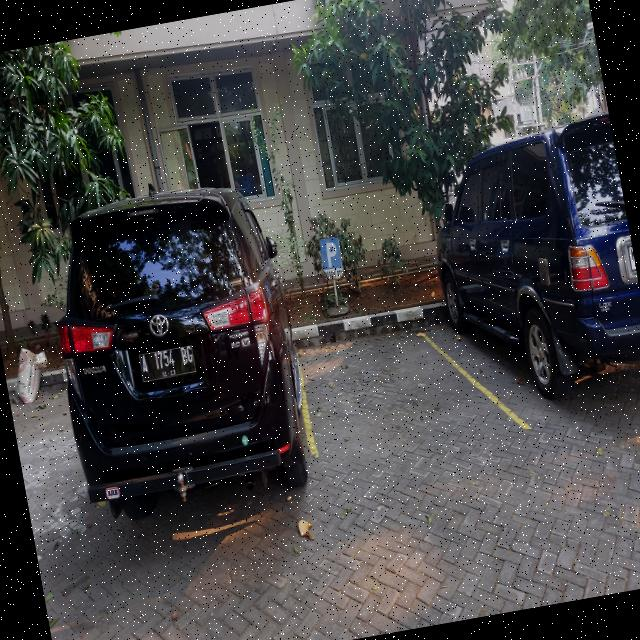empty: (296, 329, 526, 450)
occupied: (59, 186, 320, 542), (420, 114, 640, 427)
